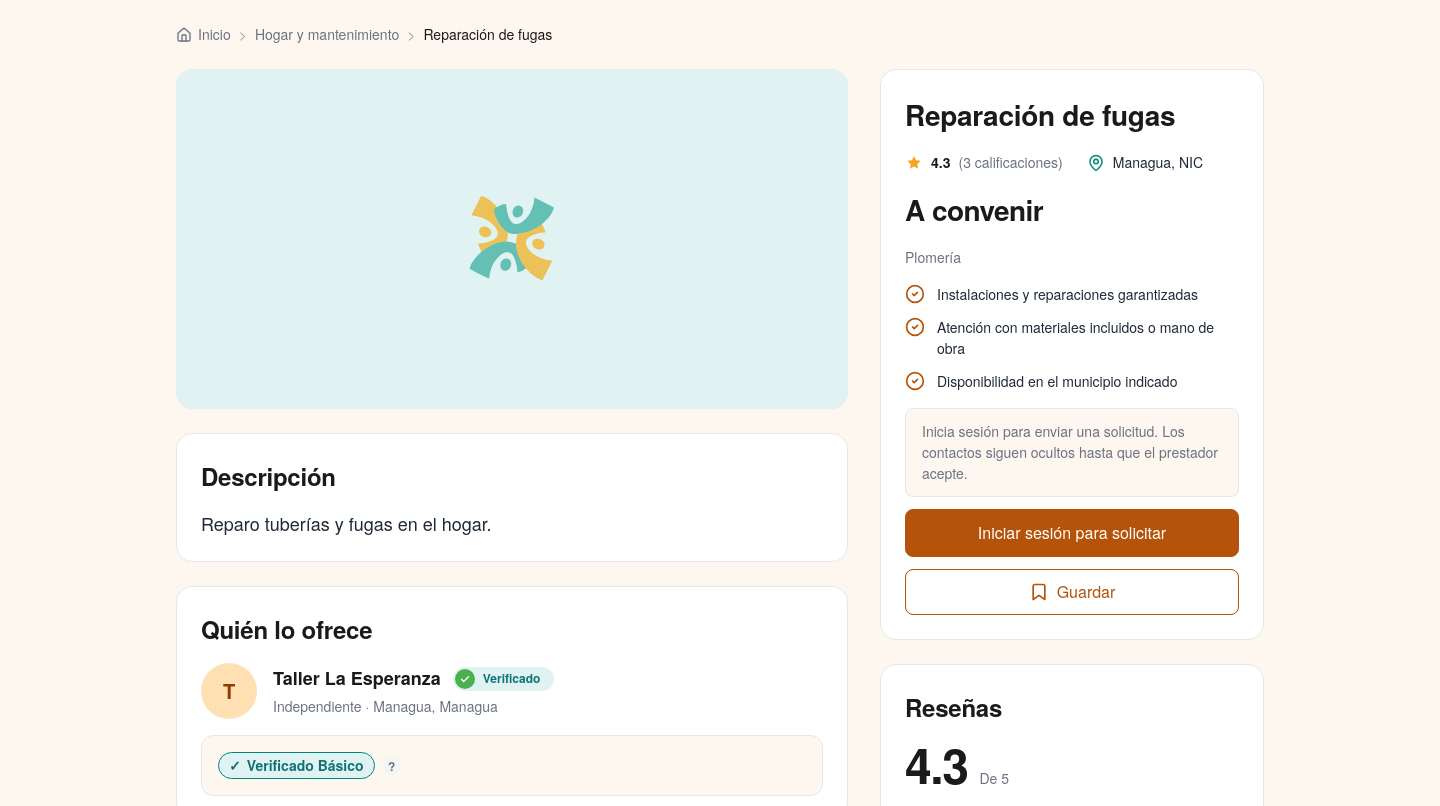
Test: Detalle de servicio › enlaza el prestador y conserva la advertencia de la insignia
Hover over the button with aria-label "Insignia" at x=309, y=766, box [218,752,401,779]
(page scrolled)
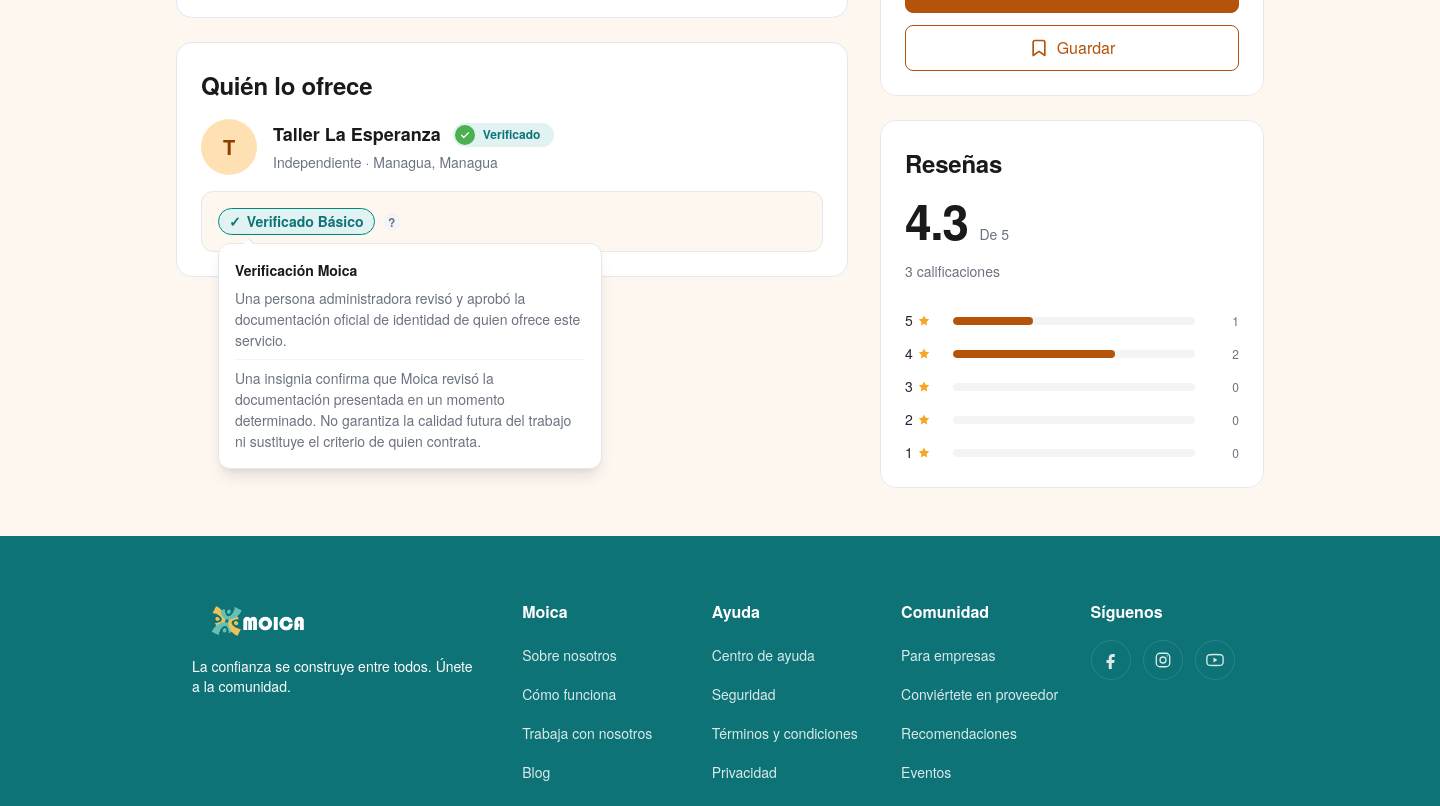
Check: the text "No garantiza la calidad futura del trabajo" is shown, box [235,368,571,451]
